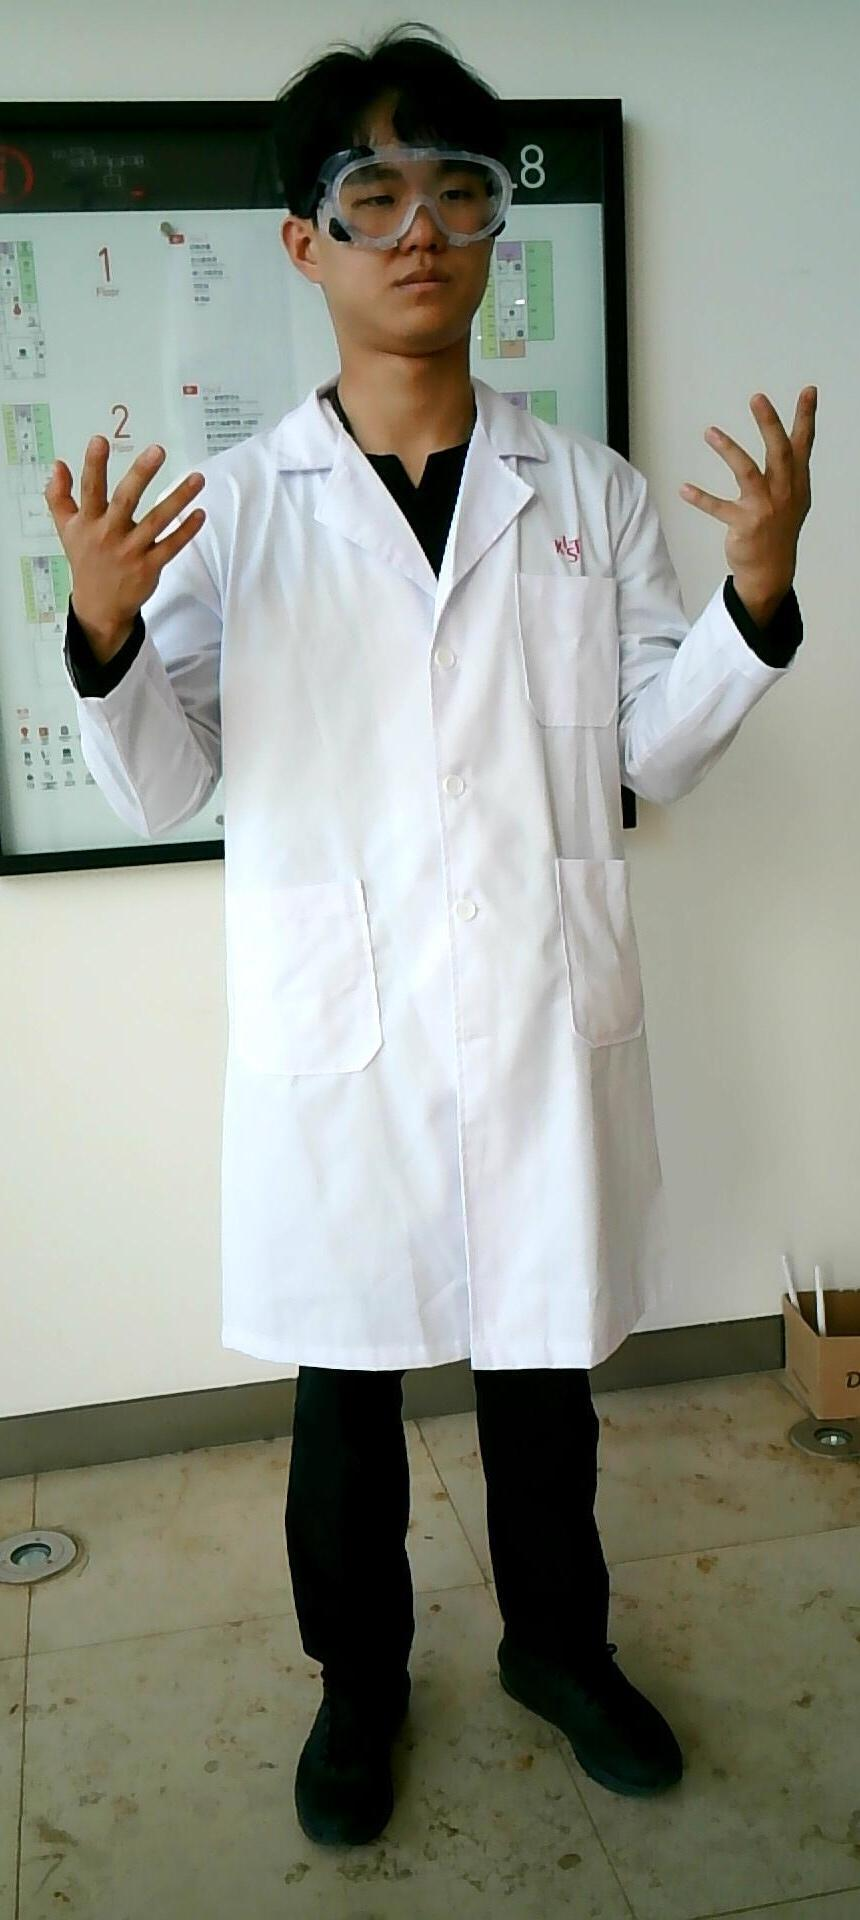lab_coat: (205, 460, 658, 1358)
